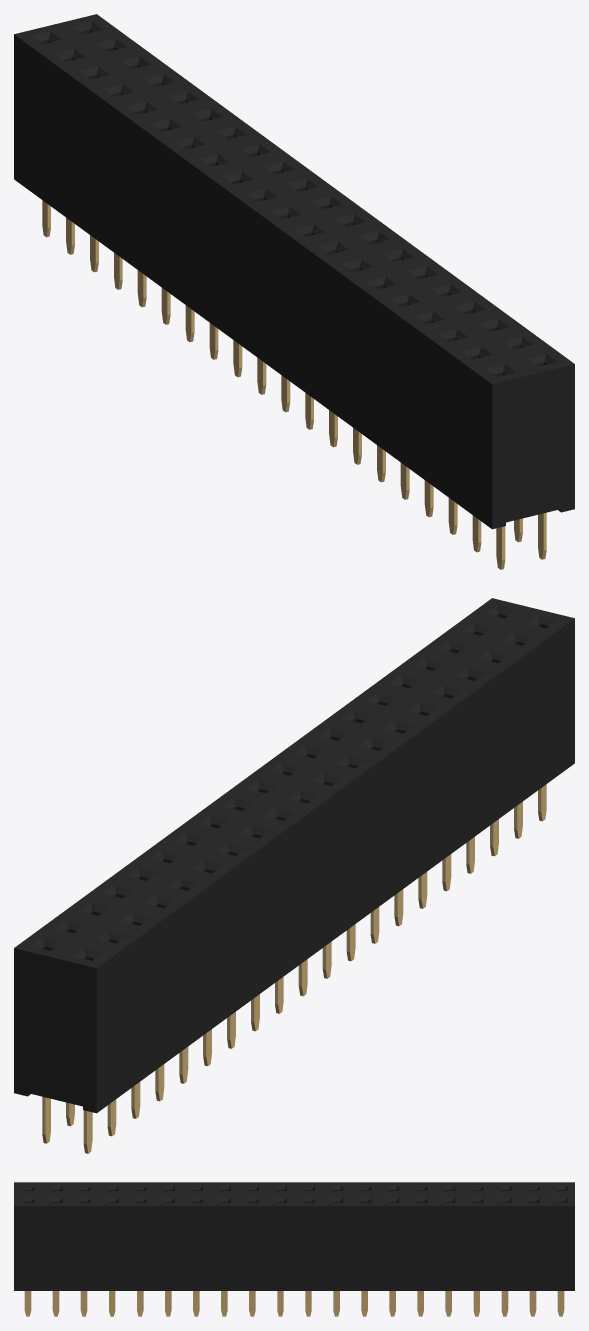
Rendered from kc-pinsocket_2x20_p2.54mm_vertical.glb.
The picture shows the model from 3 angles, top to bottom: view 1: azimuth 30°, elevation 25°; view 2: azimuth 150°, elevation 25°; view 3: azimuth 270°, elevation 25°; orthographic projection. The views are drawn at different scales.
Visible parts, largest first — view 1: 0_0_0_0, 0.75_0.5_0.25_0.9; view 2: 0_0_0_0, 0.75_0.5_0.25_0.9; view 3: 0_0_0_0, 0.75_0.5_0.25_0.9.
Part boxes in pixels (box(x1,y1,x2,y2)): 0_0_0_0: box(14, 14, 574, 529); 0.75_0.5_0.25_0.9: box(42, 200, 546, 569); 0_0_0_0: box(14, 598, 574, 1113); 0.75_0.5_0.25_0.9: box(42, 784, 546, 1153); 0_0_0_0: box(14, 1182, 574, 1290); 0.75_0.5_0.25_0.9: box(24, 1291, 564, 1316).
Size of the model in its own units: 0.5079 by 1.16 by 5.08.
